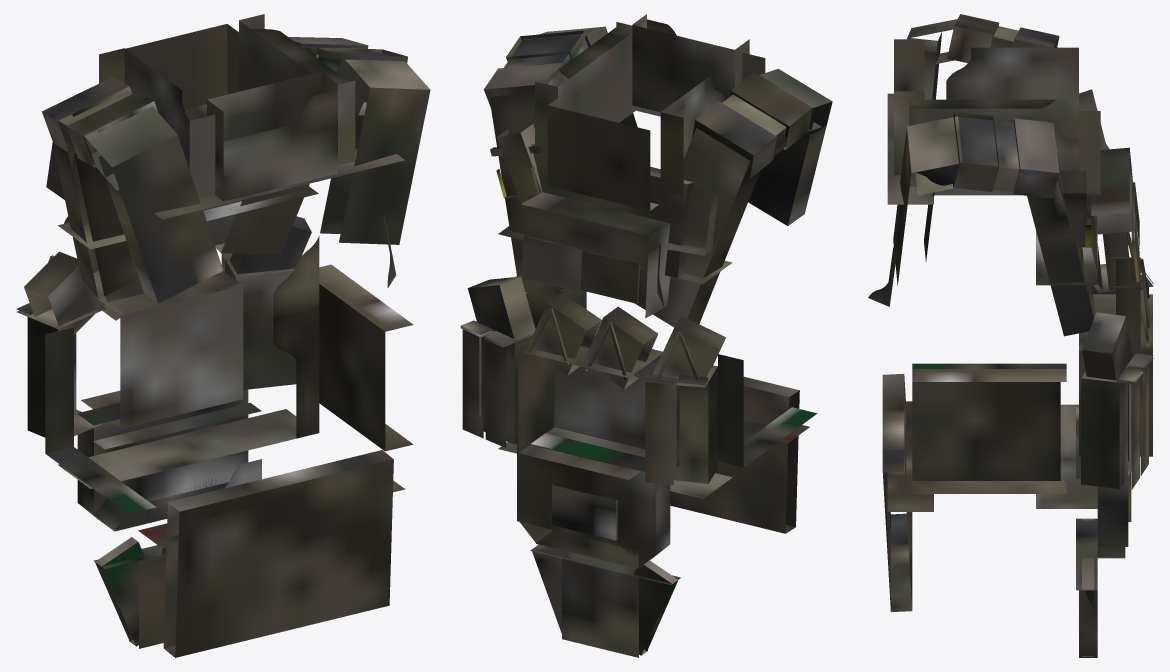
Rendered from assault.obj.
3 views of the same model, side by side, from view 1: azimuth 30°, elevation 25°; view 2: azimuth 150°, elevation 25°; view 3: azimuth 270°, elevation 25° (orthographic). The views are drawn at different scales.
Visible parts, largest first — view 1: assault_brf; view 2: assault_brf; view 3: assault_brf.
Boxes of the visible parts, box(x1,y1,x2,y2) form: assault_brf: box(16, 14, 430, 657); assault_brf: box(460, 14, 832, 657); assault_brf: box(868, 14, 1153, 657).
Bounding box in the file's own units: 0.7121 × 1.28 × 0.5964.
